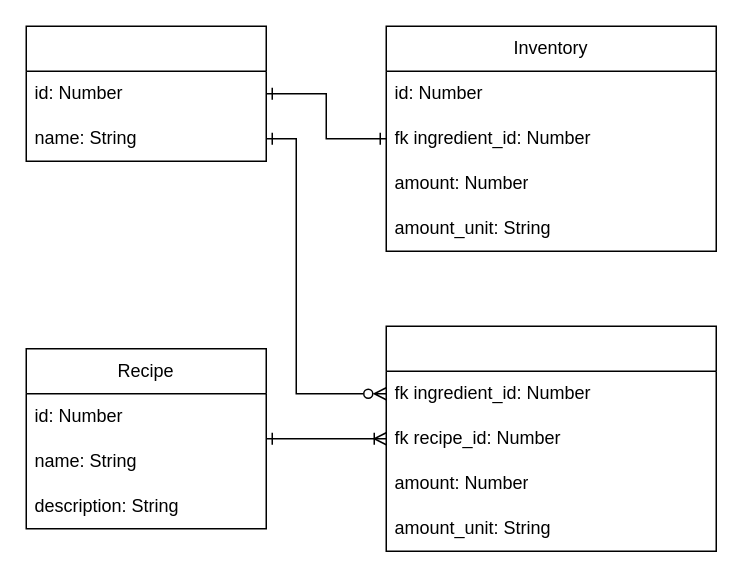
Some shapes in this 743 by 578 pixel diagram are drawn without their labels. The box of each missing label's shape, as (x1, y1, x2, y2) in pixels:
Ingredient: (25, 25, 266, 161)
Recipe_Ingredient: (385, 325, 716, 551)
